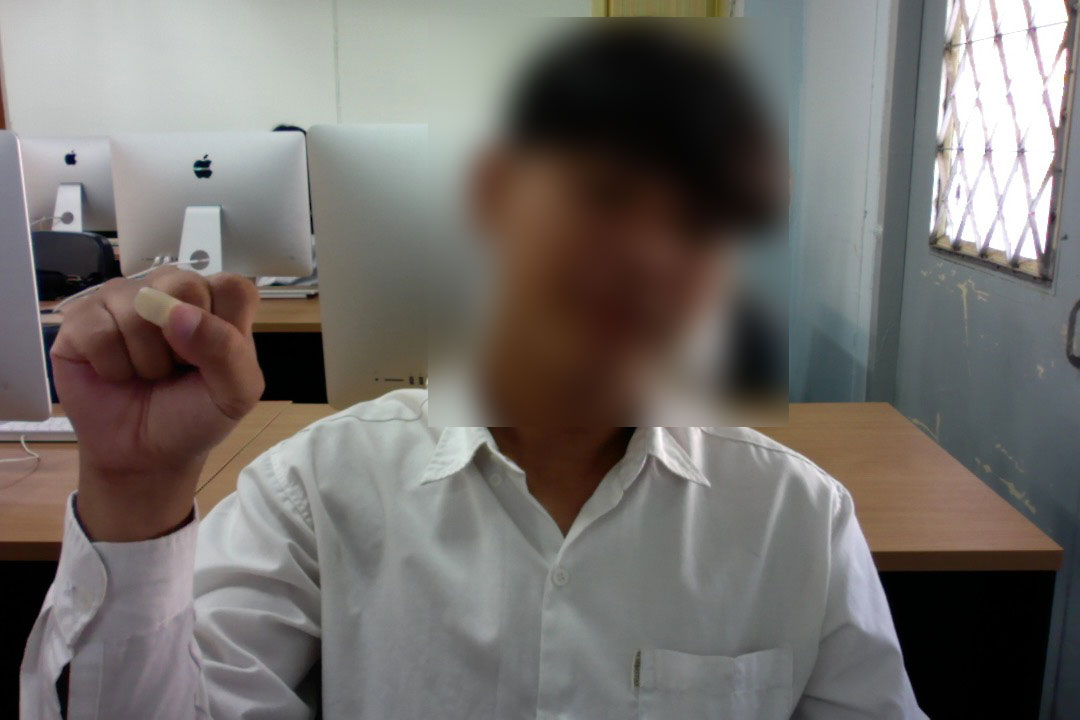sor: (45, 260, 271, 500)
